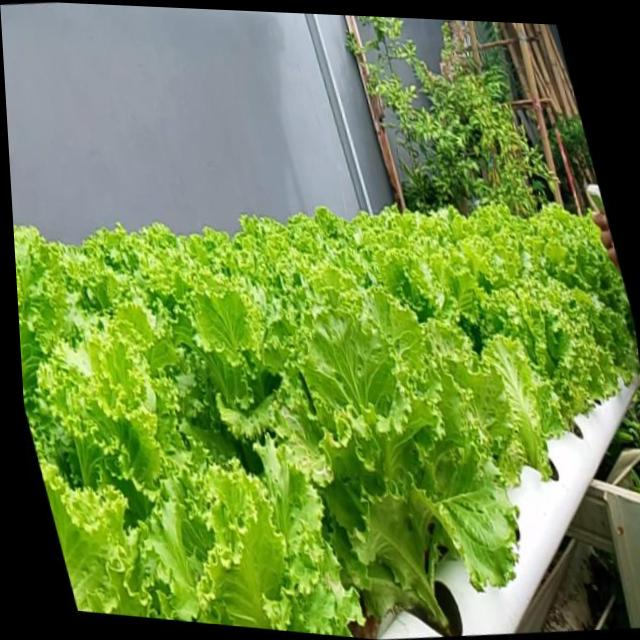Mature: (13, 197, 640, 638), (285, 300, 514, 637), (490, 277, 614, 446)
